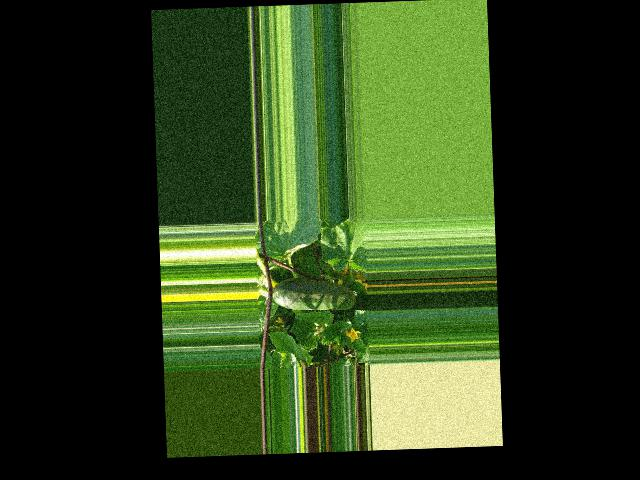cucumber: (272, 274, 356, 312)
